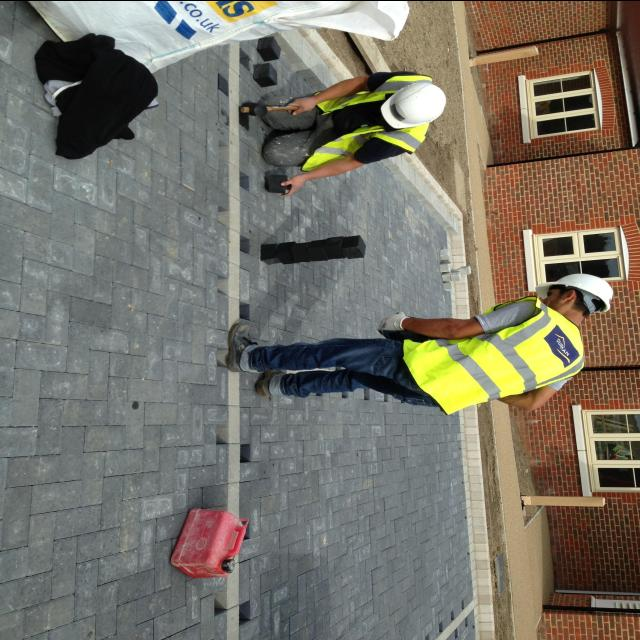helmet: (547, 267, 621, 317), (380, 82, 450, 132)
jacket: (401, 290, 595, 410), (297, 70, 445, 178)
